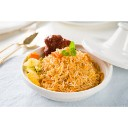briyani: (33, 36, 98, 87)
